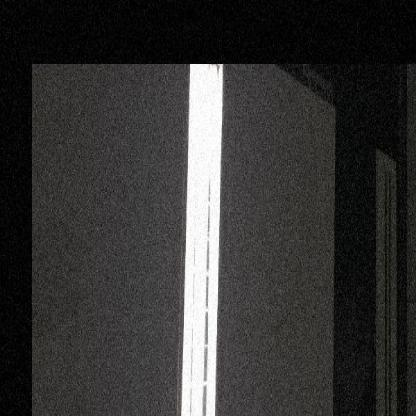light_on: (162, 64, 239, 415)
